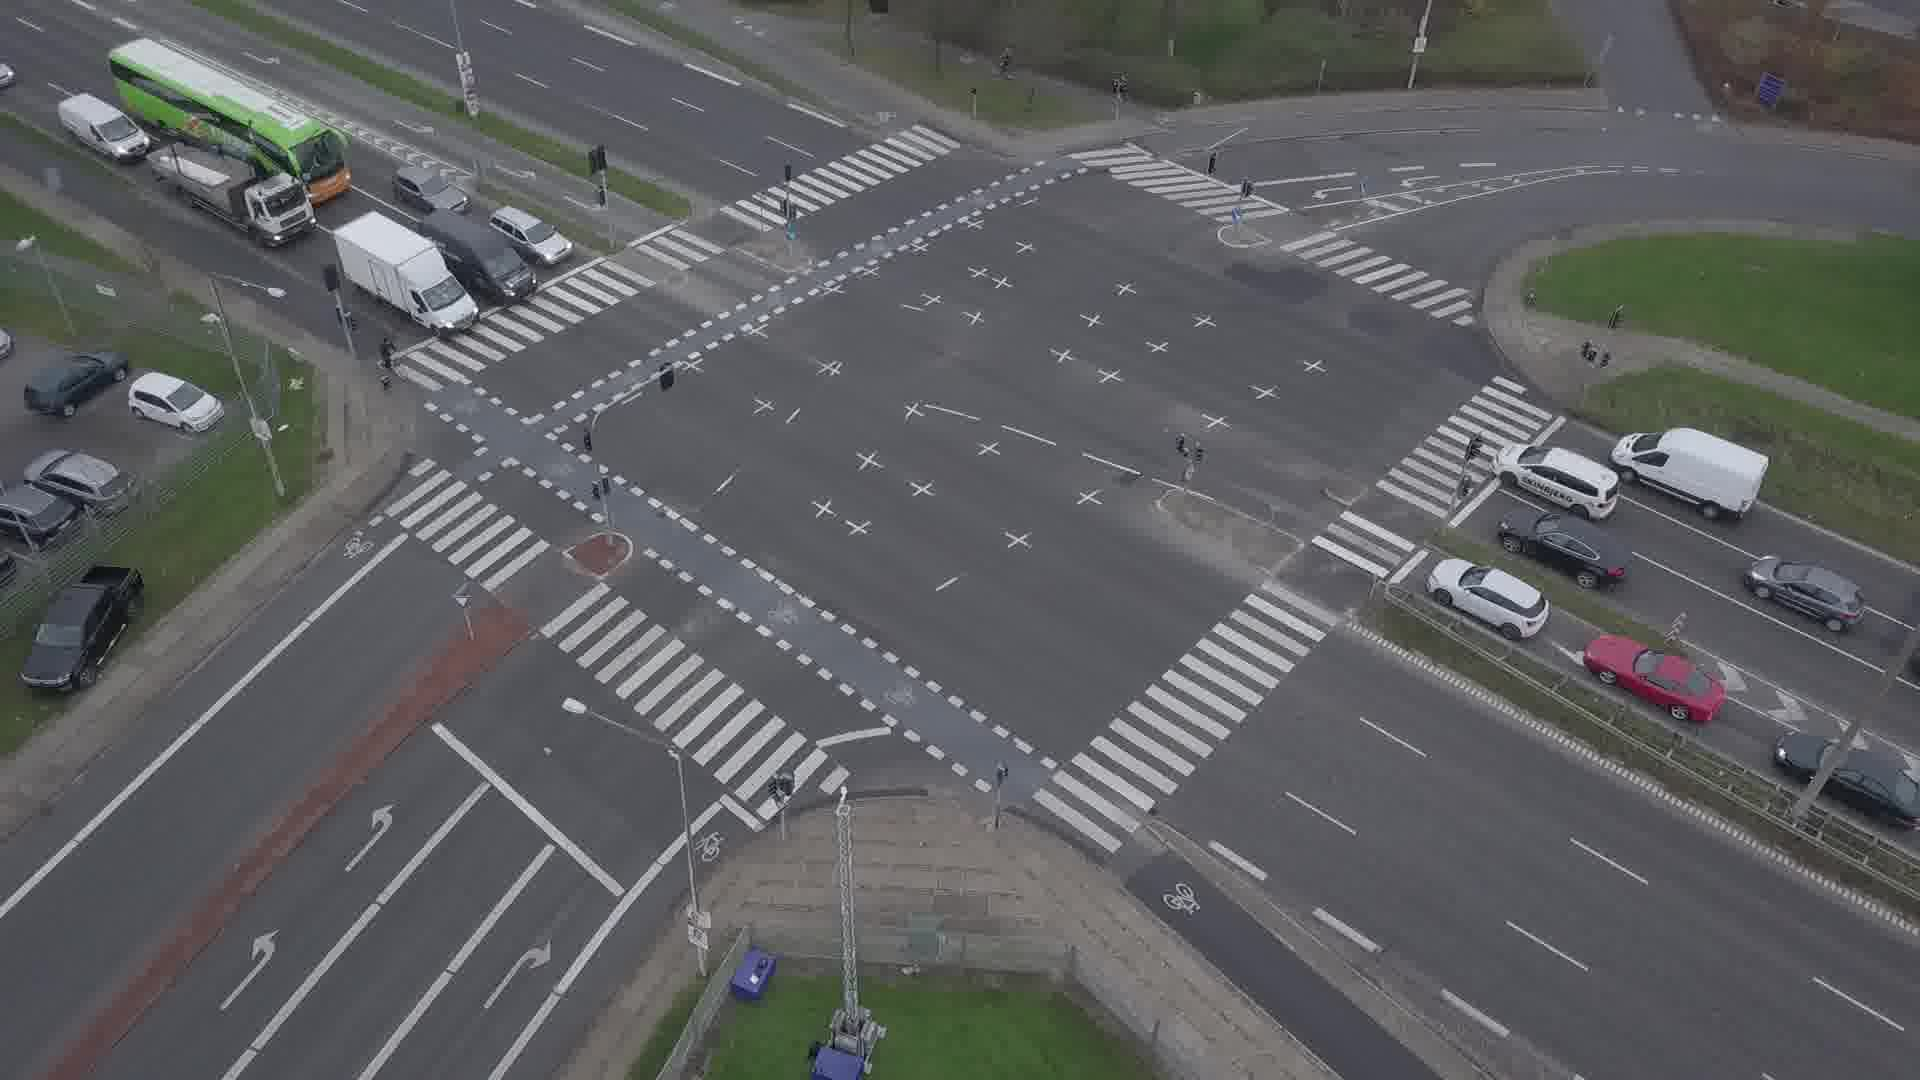bicycle: (989, 44, 1026, 82), (376, 342, 410, 381)
bus: (104, 36, 350, 204)
car: (1775, 730, 1920, 822), (1585, 631, 1729, 721), (1494, 506, 1634, 588), (1488, 443, 1619, 520), (1426, 557, 1549, 638), (1743, 553, 1866, 631), (488, 206, 575, 269), (390, 163, 472, 214), (0, 59, 16, 90)
lorry: (145, 125, 315, 247), (332, 209, 479, 336), (1608, 427, 1771, 521), (420, 207, 540, 304), (56, 91, 151, 162)
